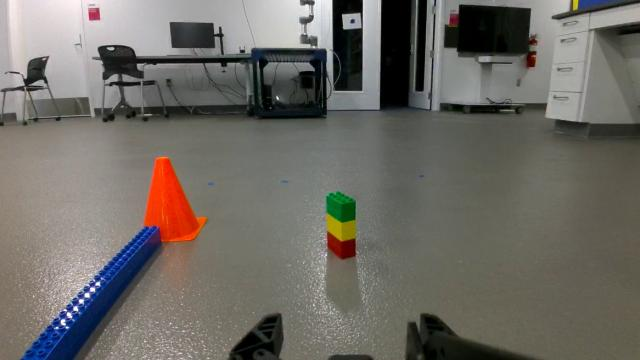lego: (323, 188, 366, 263)
